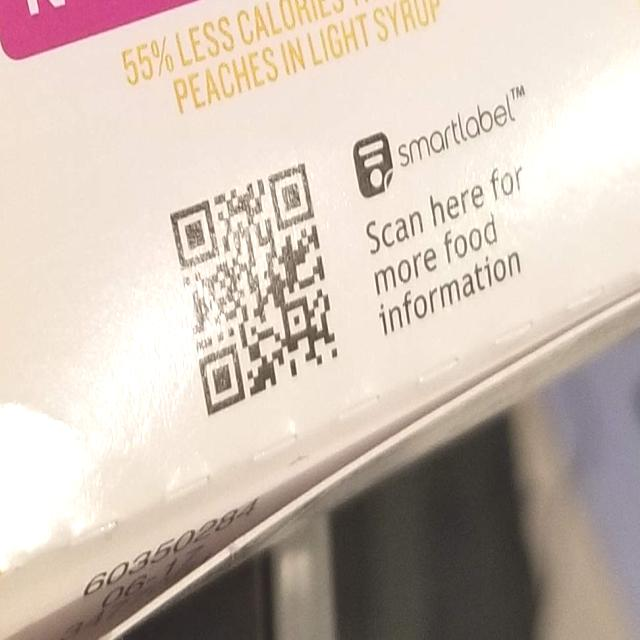QRCode: (155, 142, 351, 424)
